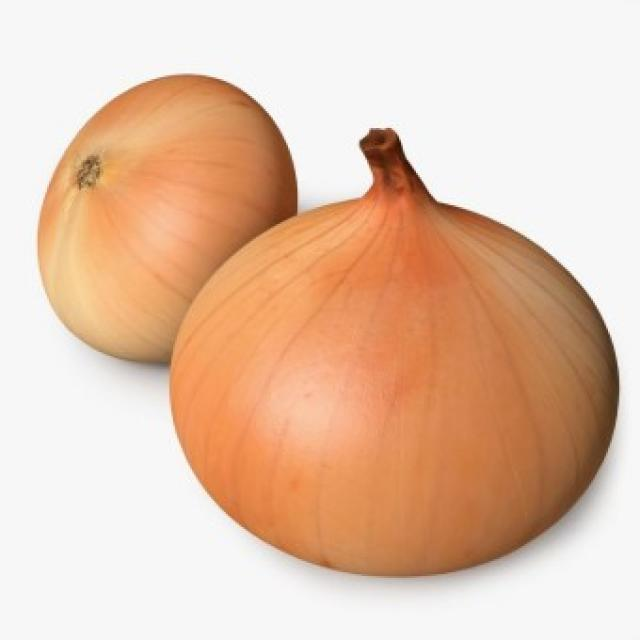onion: (168, 128, 621, 580), (36, 75, 300, 368)
